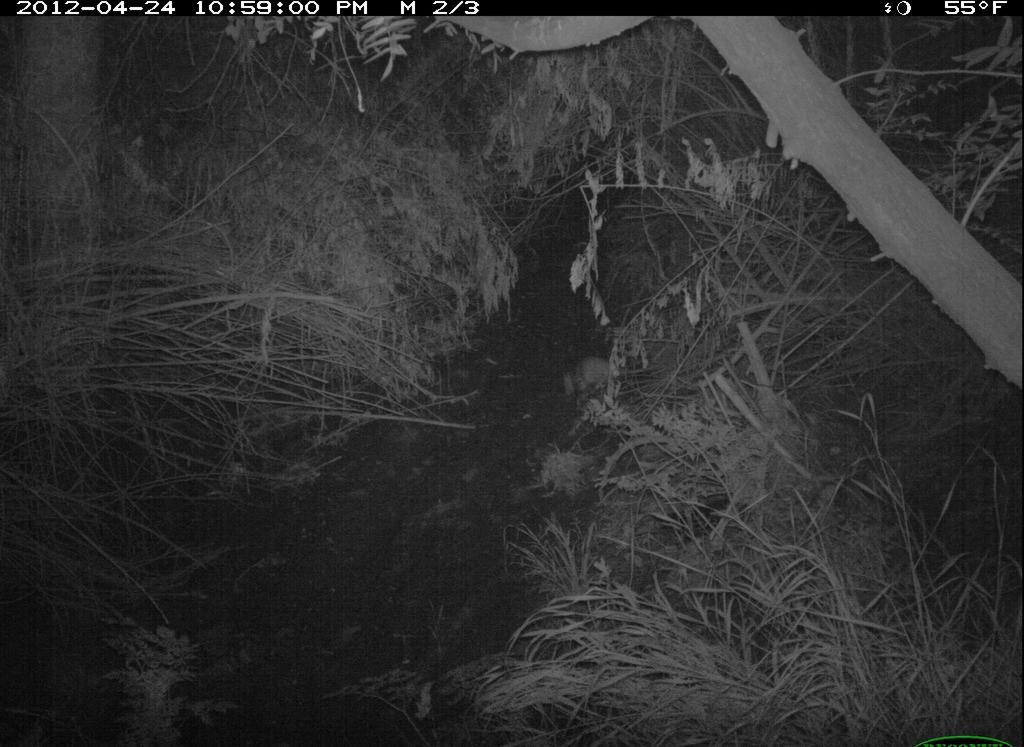opossum: (559, 354, 648, 405)
